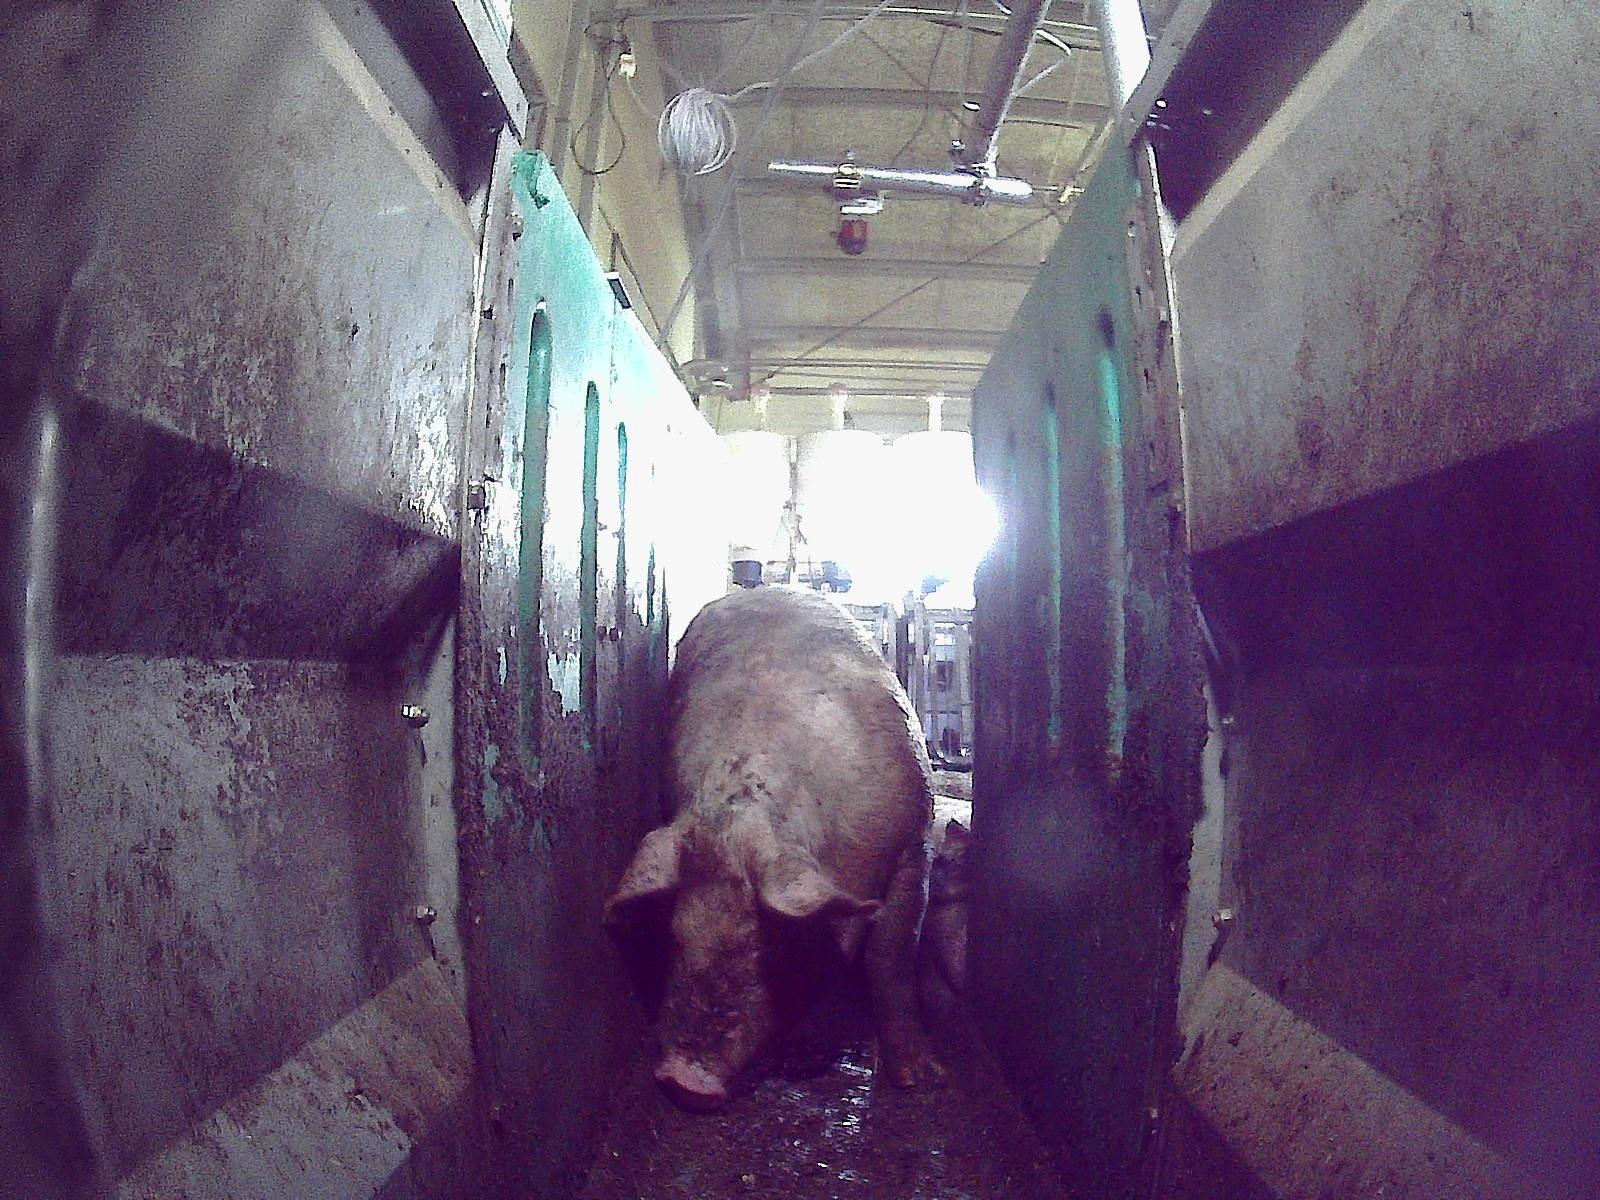Face: (652, 825, 813, 1108)
